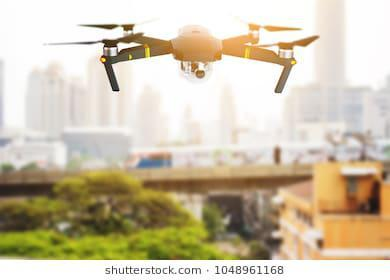drone: (42, 18, 323, 94)
